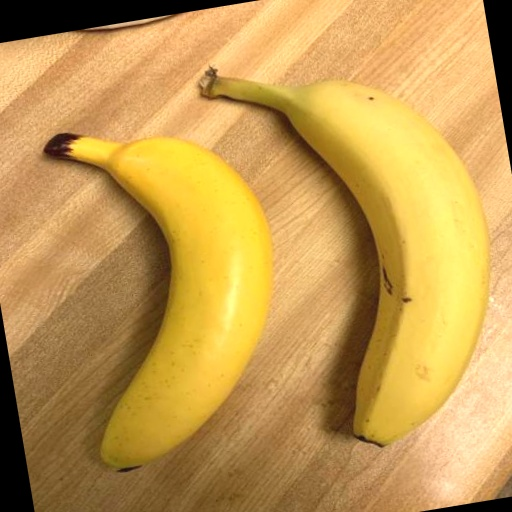fruit: (201, 70, 489, 445), (45, 134, 271, 468)
